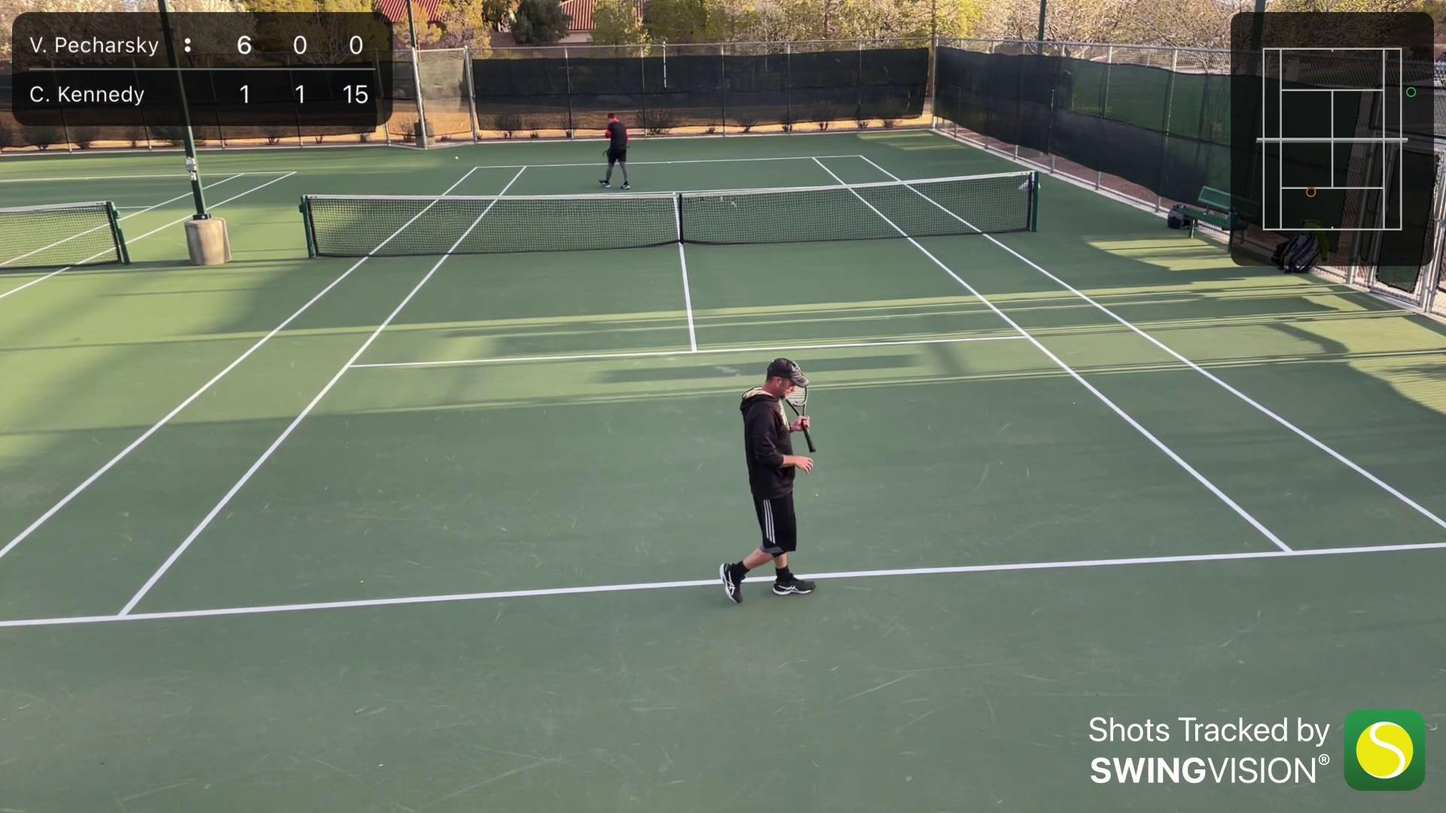ball: (453, 155, 461, 160)
